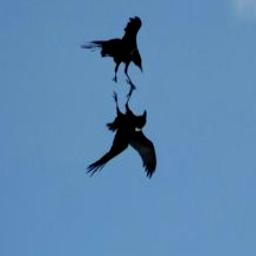Crow: (83, 84, 158, 181)
